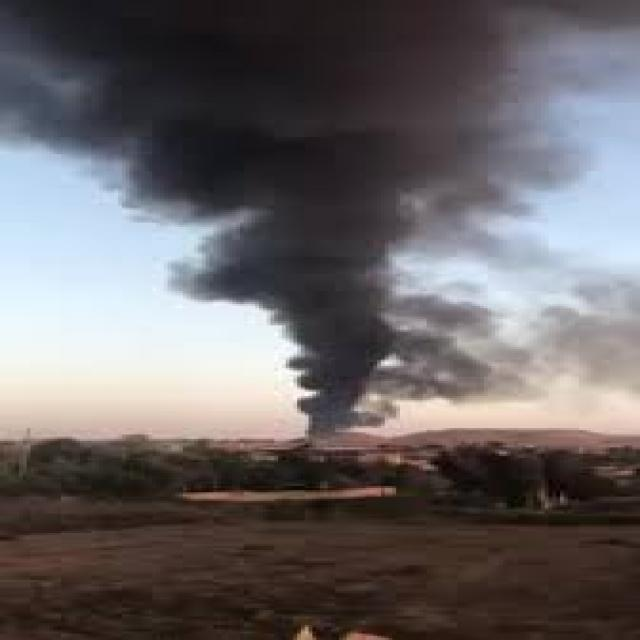smoke: (1, 6, 640, 193), (168, 198, 638, 312), (271, 309, 639, 430)
